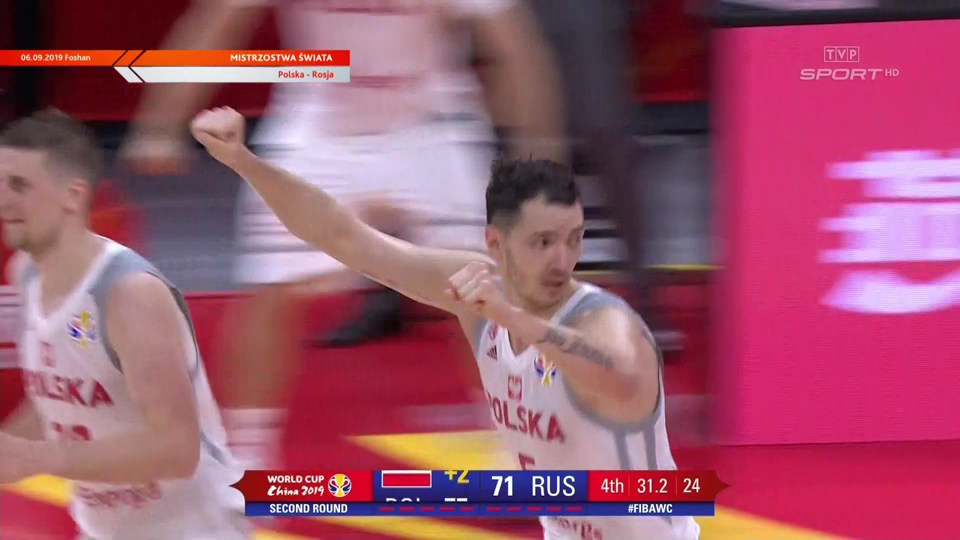Adidas: (486, 343, 499, 360)
